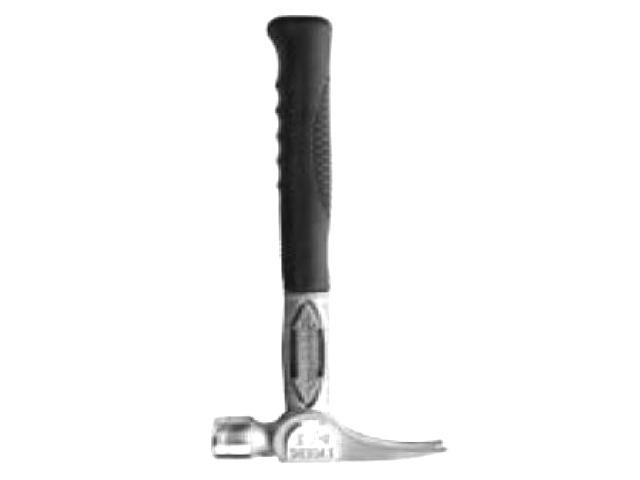Hammer: (211, 17, 446, 463)
